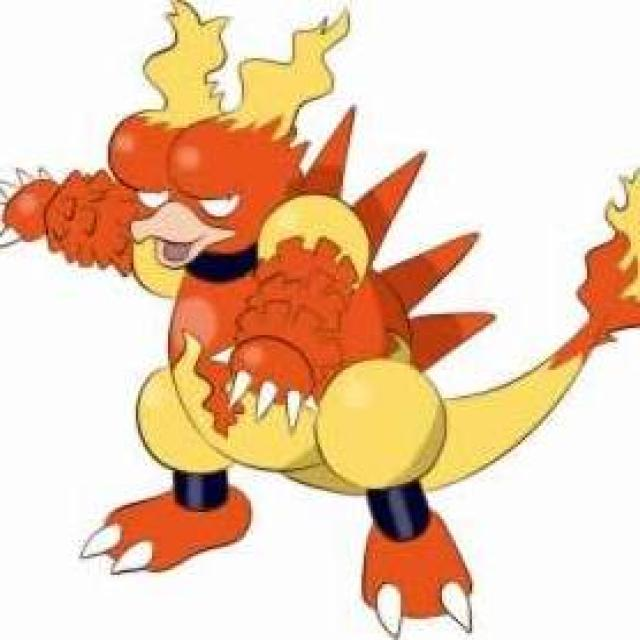Magmar: (32, 33, 494, 622)
